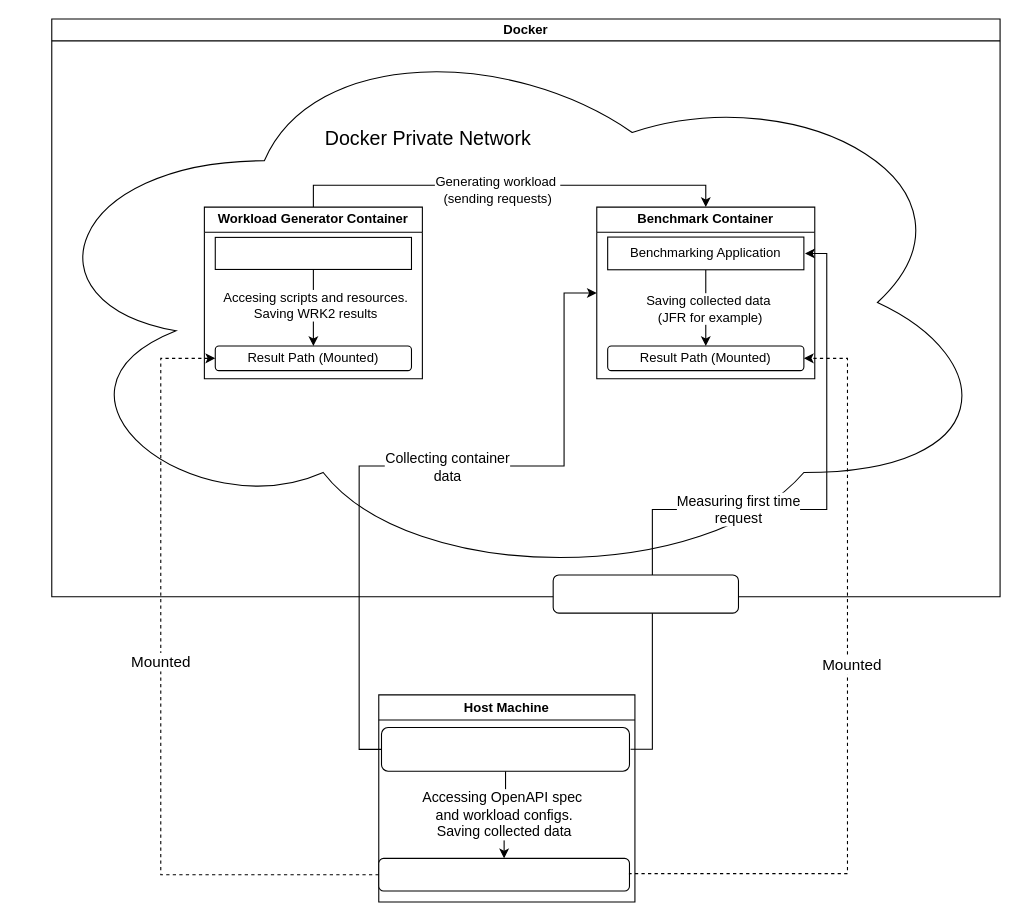
Some shapes in this 1019 by 921 pixel diagram are drawn without their labels. Here are the shapes that lost their labels. From the top down, the centre of each, then its label:
At point (312, 252): "Workload Generator (WRK2)".
At point (645, 593): "Benchmark applicatioon exposed port".
At point (504, 748): "Harness (Go Application)".
At point (503, 874): "Result Path".
